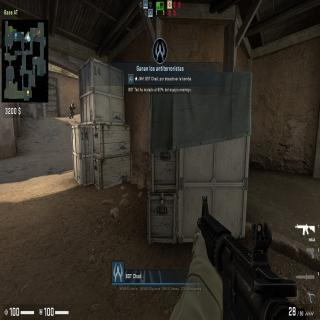CT-Head: (72, 103, 74, 106)
